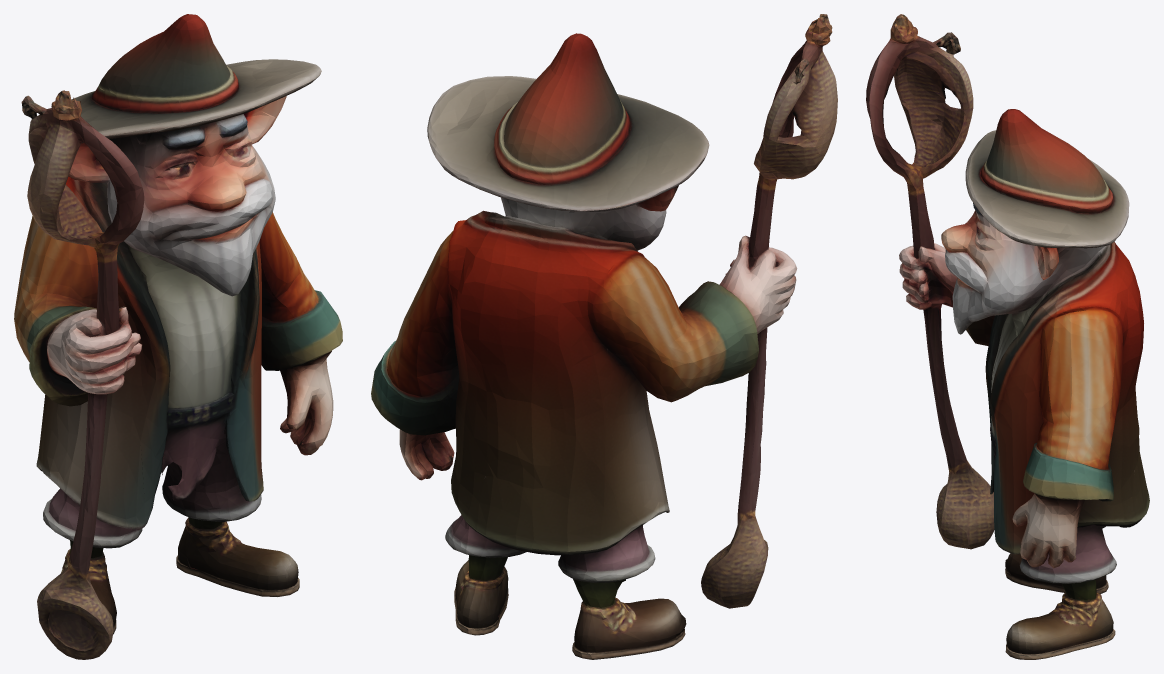
The model's file is pig_2.glb.
3 views of the same model, side by side, from view 1: azimuth 30°, elevation 25°; view 2: azimuth 150°, elevation 25°; view 3: azimuth 270°, elevation 25° (orthographic). The views are drawn at different scales.
Visible parts, largest first — view 1: world; view 2: world; view 3: world.
Part boxes in pixels (x1,y1,x2,y2): world: (14,14,342,659); world: (371,14,837,659); world: (866,14,1149,659).
Size of the model in its own units: 0.6528 by 1 by 0.4954.
Materials: 1 (1 with a texture image).
